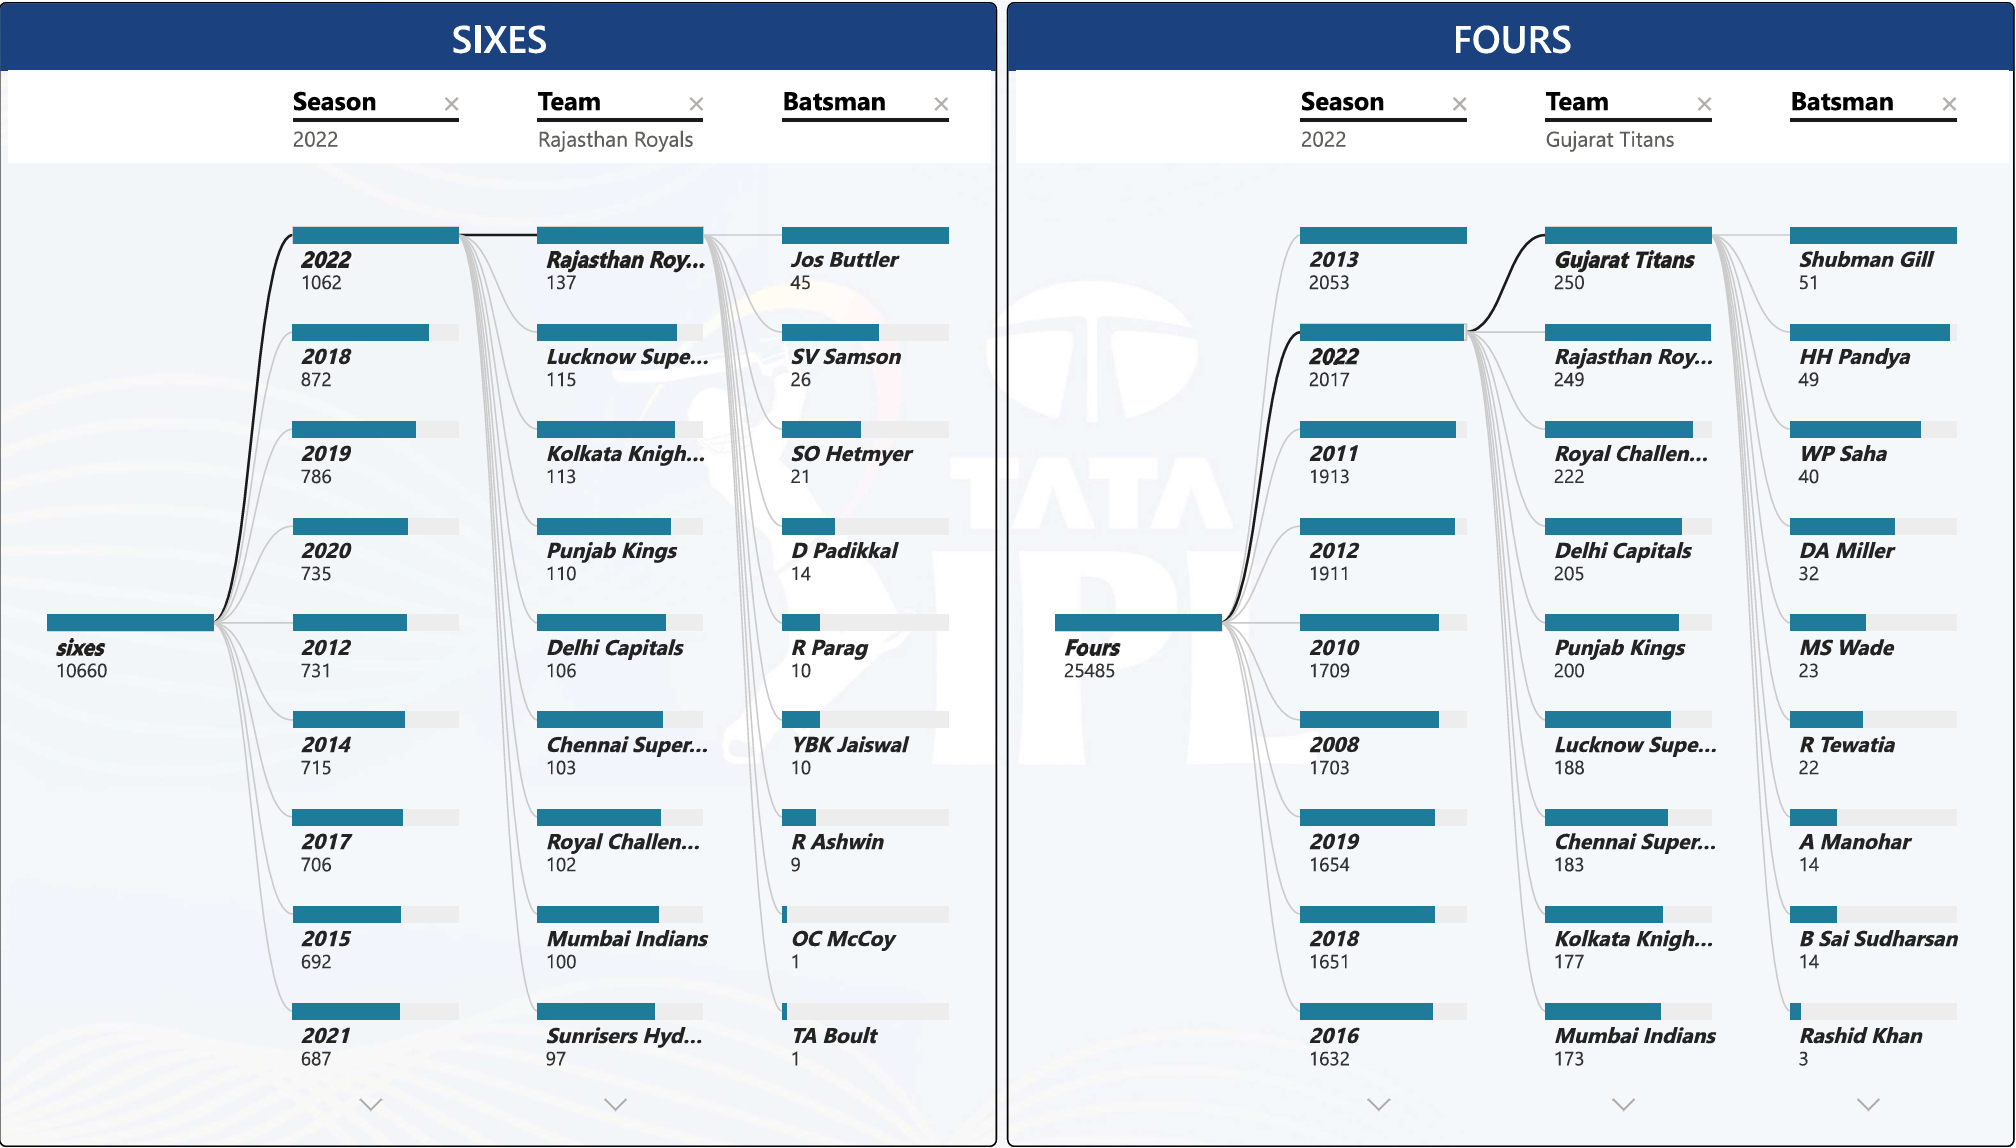

Layout of this report page (visuals, bound fields, positions):
{"tool":"powerbi","page":{"name":"6's & 4's","canvas":[1280,720],"ordinal":2},"visuals":[{"type":"decompositionTreeVisual","title":"SIXES","fields":{"ExplainBy":["ipl_match_results.Year","ipl_ball_by_ball.batting_team","ipl_ball_by_ball.batter"],"Analyze":["Measure table.sixes"]},"box":[6.2,0,627.8,720],"z":0},{"type":"decompositionTreeVisual","title":"FOURS","fields":{"ExplainBy":["ipl_match_results.Year","ipl_ball_by_ball.batting_team","ipl_ball_by_ball.batter"],"Analyze":["Measure table.Fours"]},"box":[640.2,0,634,720],"z":1}]}

Visuals, with their boxes in screenshot pixels (x1, y1, x2, y2), scaled from the page's 1280x720 canvas onto the 2016x1148 screenshot:
"SIXES" decompositionTreeVisual: (10, 0, 999, 1147)
"FOURS" decompositionTreeVisual: (1008, 0, 2007, 1147)
